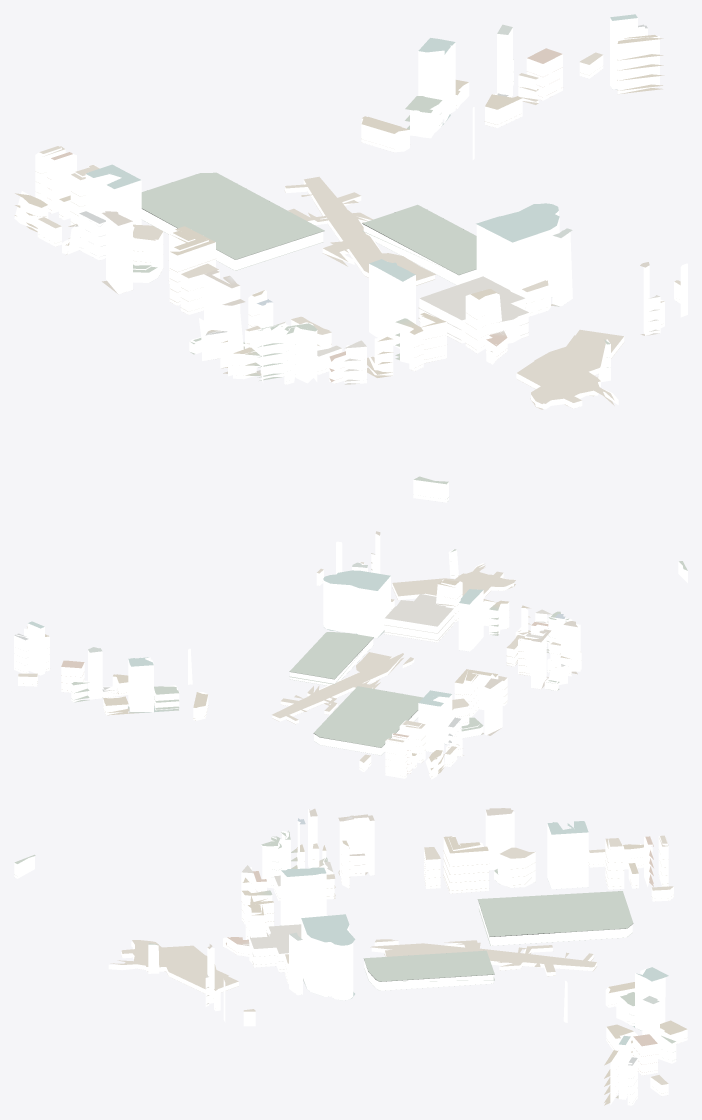
The model's file is buildings-8_-1-coarse.glb.
3 renders of one model, top to bottom at view 1: azimuth 30°, elevation 25°; view 2: azimuth 150°, elevation 25°; view 3: azimuth 270°, elevation 25°, orthographic. The views are drawn at different scales.
Visible parts, largest first — view 1: block_8_-1_residential, block_8_-1_roof, block_8_-1_office; view 2: block_8_-1_roof, block_8_-1_residential, block_8_-1_office; view 3: block_8_-1_roof, block_8_-1_residential, block_8_-1_office.
Boxes of the visible parts, x1,y1,x2,y2 form: block_8_-1_residential: (14,26,687,502); block_8_-1_roof: (14,14,680,501); block_8_-1_office: (85,18,649,376); block_8_-1_roof: (14,531,687,776); block_8_-1_residential: (14,541,687,779); block_8_-1_office: (27,534,580,752); block_8_-1_roof: (14,808,687,1105); block_8_-1_residential: (14,831,687,1105); block_8_-1_office: (207,809,665,1099).
Bounding box in the file's own units: 517 × 59.2 × 604.
